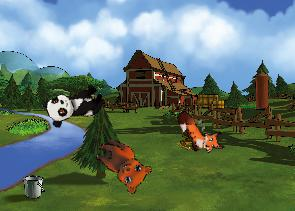bear: (86, 134, 156, 197)
fox: (173, 100, 228, 162)
panda: (41, 79, 108, 130)
